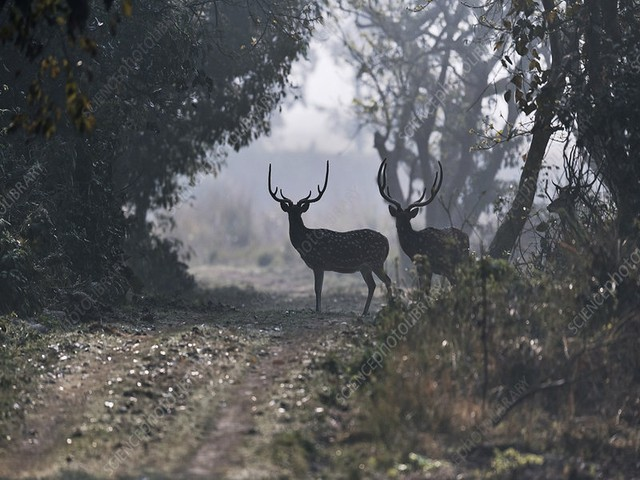deer: (249, 157, 386, 311), (368, 153, 477, 281)
